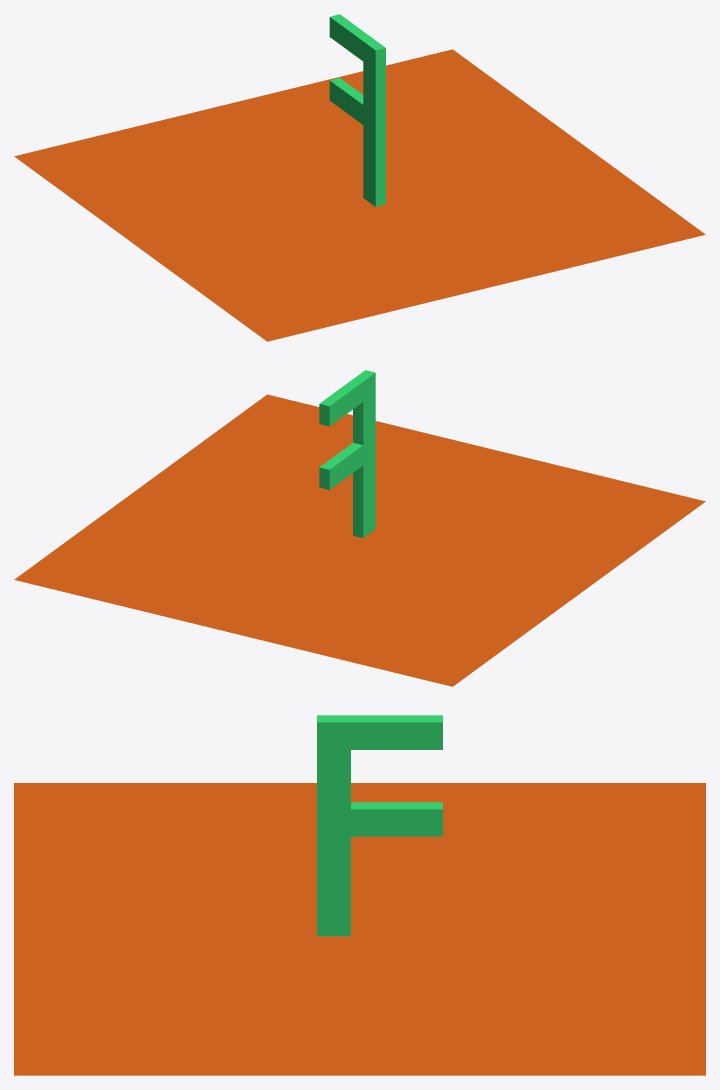
File: factory_placeholder.glb
3 renders of one model, top to bottom at view 1: azimuth 30°, elevation 25°; view 2: azimuth 150°, elevation 25°; view 3: azimuth 270°, elevation 25°, orthographic. The views are drawn at different scales.
Visible parts, largest first — view 1: Plane; view 2: Plane; view 3: Plane.
Boxes of the visible parts, x1=… form: Plane: x1=14, y1=14, x2=705, y2=341; Plane: x1=14, y1=370, x2=705, y2=686; Plane: x1=14, y1=715, x2=705, y2=1075.
Size of the model in its own units: 20 by 6.82 by 20.
